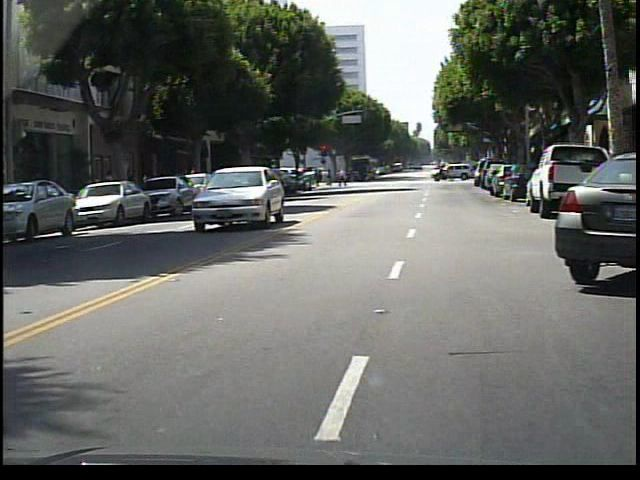person: (332, 163, 352, 192)
